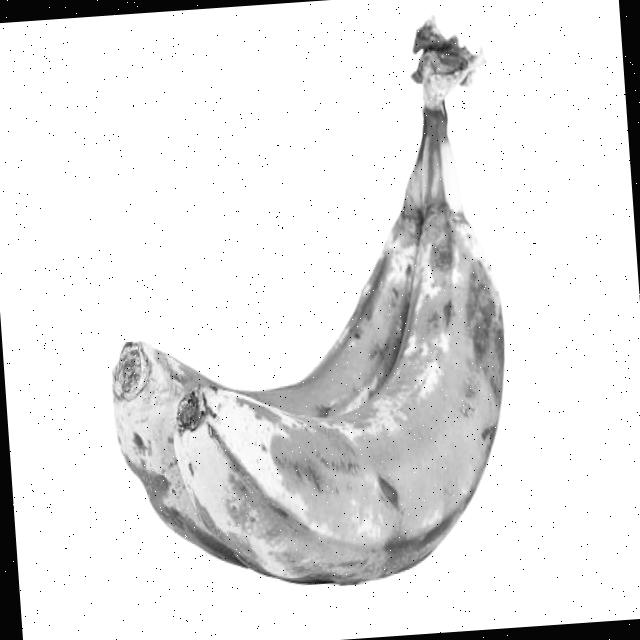overripe: (150, 106, 525, 601)
